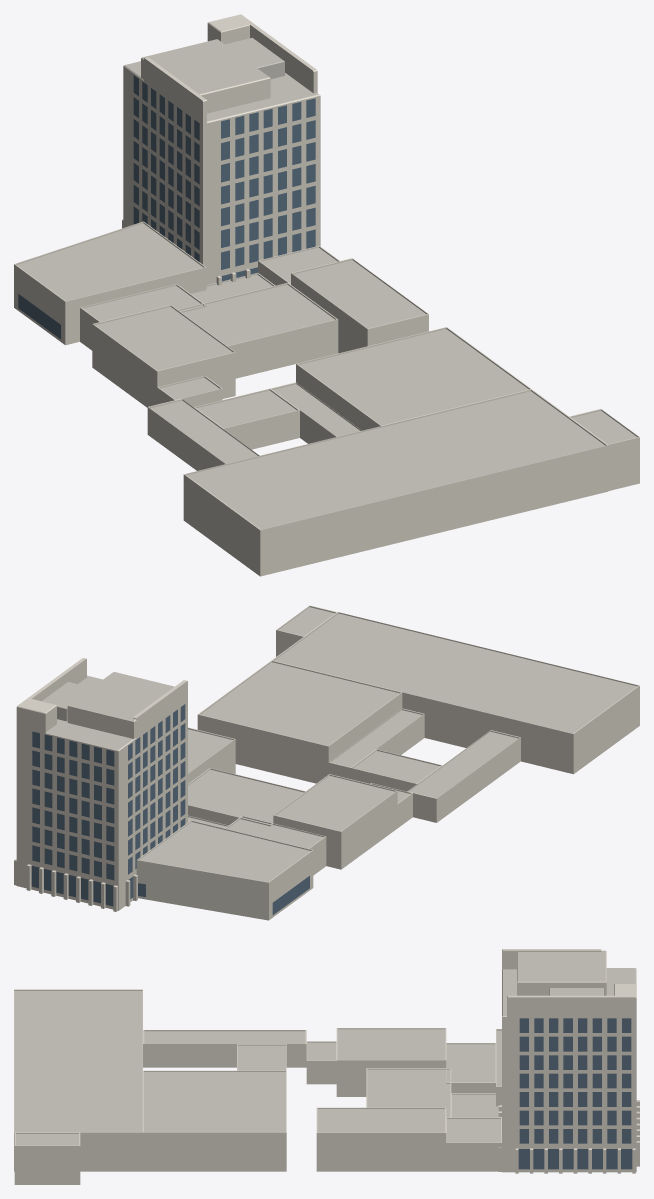
File: kc-federal-reserve-bank.glb
The picture shows the model from 3 angles, top to bottom: view 1: azimuth 30°, elevation 25°; view 2: azimuth 150°, elevation 25°; view 3: azimuth 270°, elevation 25°; orthographic projection. The views are drawn at different scales.
Visible parts, largest first — view 1: Federal Reserve Bank of Kansas City; view 2: Federal Reserve Bank of Kansas City; view 3: Federal Reserve Bank of Kansas City.
Part boxes in pixels (bbox=[...]): Federal Reserve Bank of Kansas City: bbox=[14, 14, 639, 576]; Federal Reserve Bank of Kansas City: bbox=[14, 605, 639, 920]; Federal Reserve Bank of Kansas City: bbox=[14, 949, 639, 1184].
Bounding box in the file's own units: 149 × 77.46 × 251.
